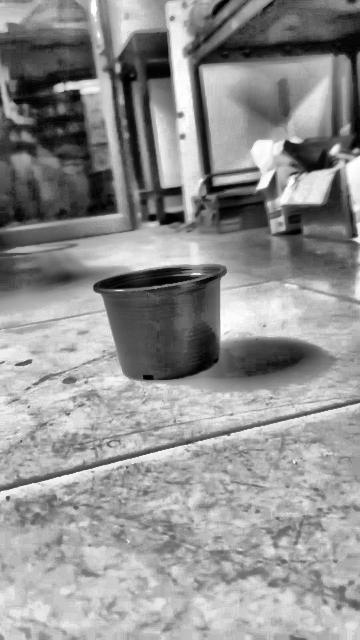pot: (93, 264, 225, 381)
